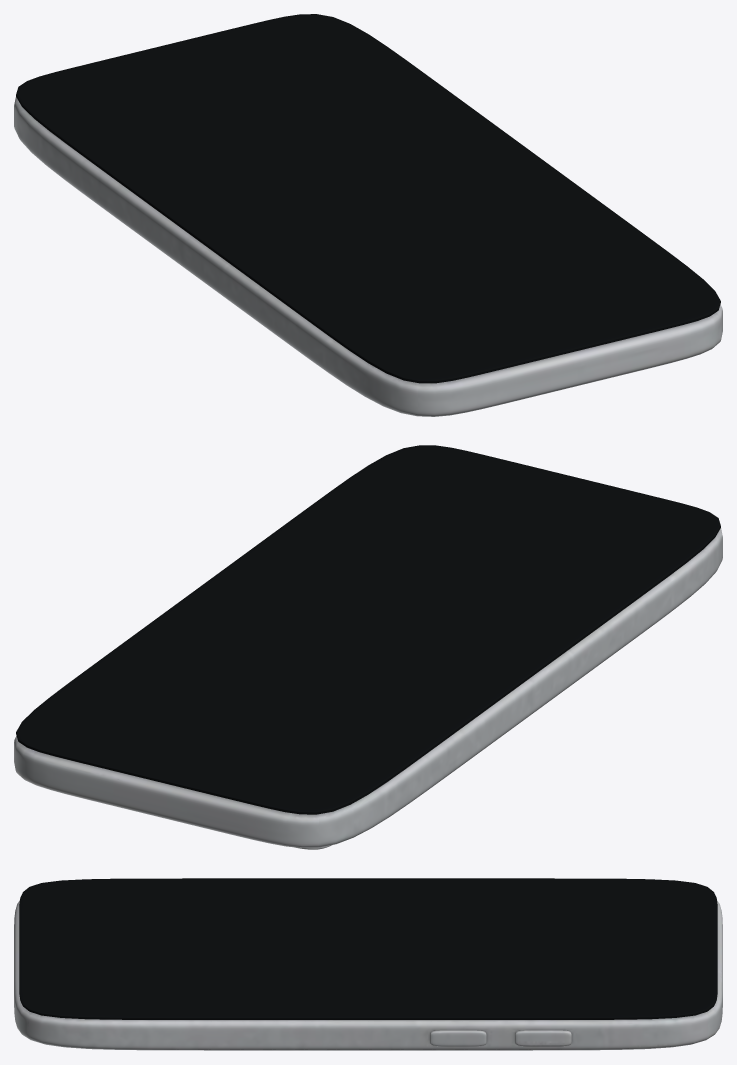
The model's file is silver.glb.
3 views of the same model, one above another, from view 1: azimuth 30°, elevation 25°; view 2: azimuth 150°, elevation 25°; view 3: azimuth 270°, elevation 25° (orthographic). The views are drawn at different scales.
Parts seen in each view (by area): view 1: screen_glass, aluminium; view 2: screen_glass, aluminium; view 3: screen_glass, aluminium.
Boxes of the visible parts, <box> form: screen_glass: <box>16,14,720,383</box>; aluminium: <box>14,97,722,416</box>; screen_glass: <box>16,445,720,814</box>; aluminium: <box>14,528,722,849</box>; screen_glass: <box>19,878,717,1019</box>; aluminium: <box>14,900,722,1050</box>.
Size of the model in its own units: 0.0728 by 0.0108 by 0.15.
11 materials, 1 textured.
